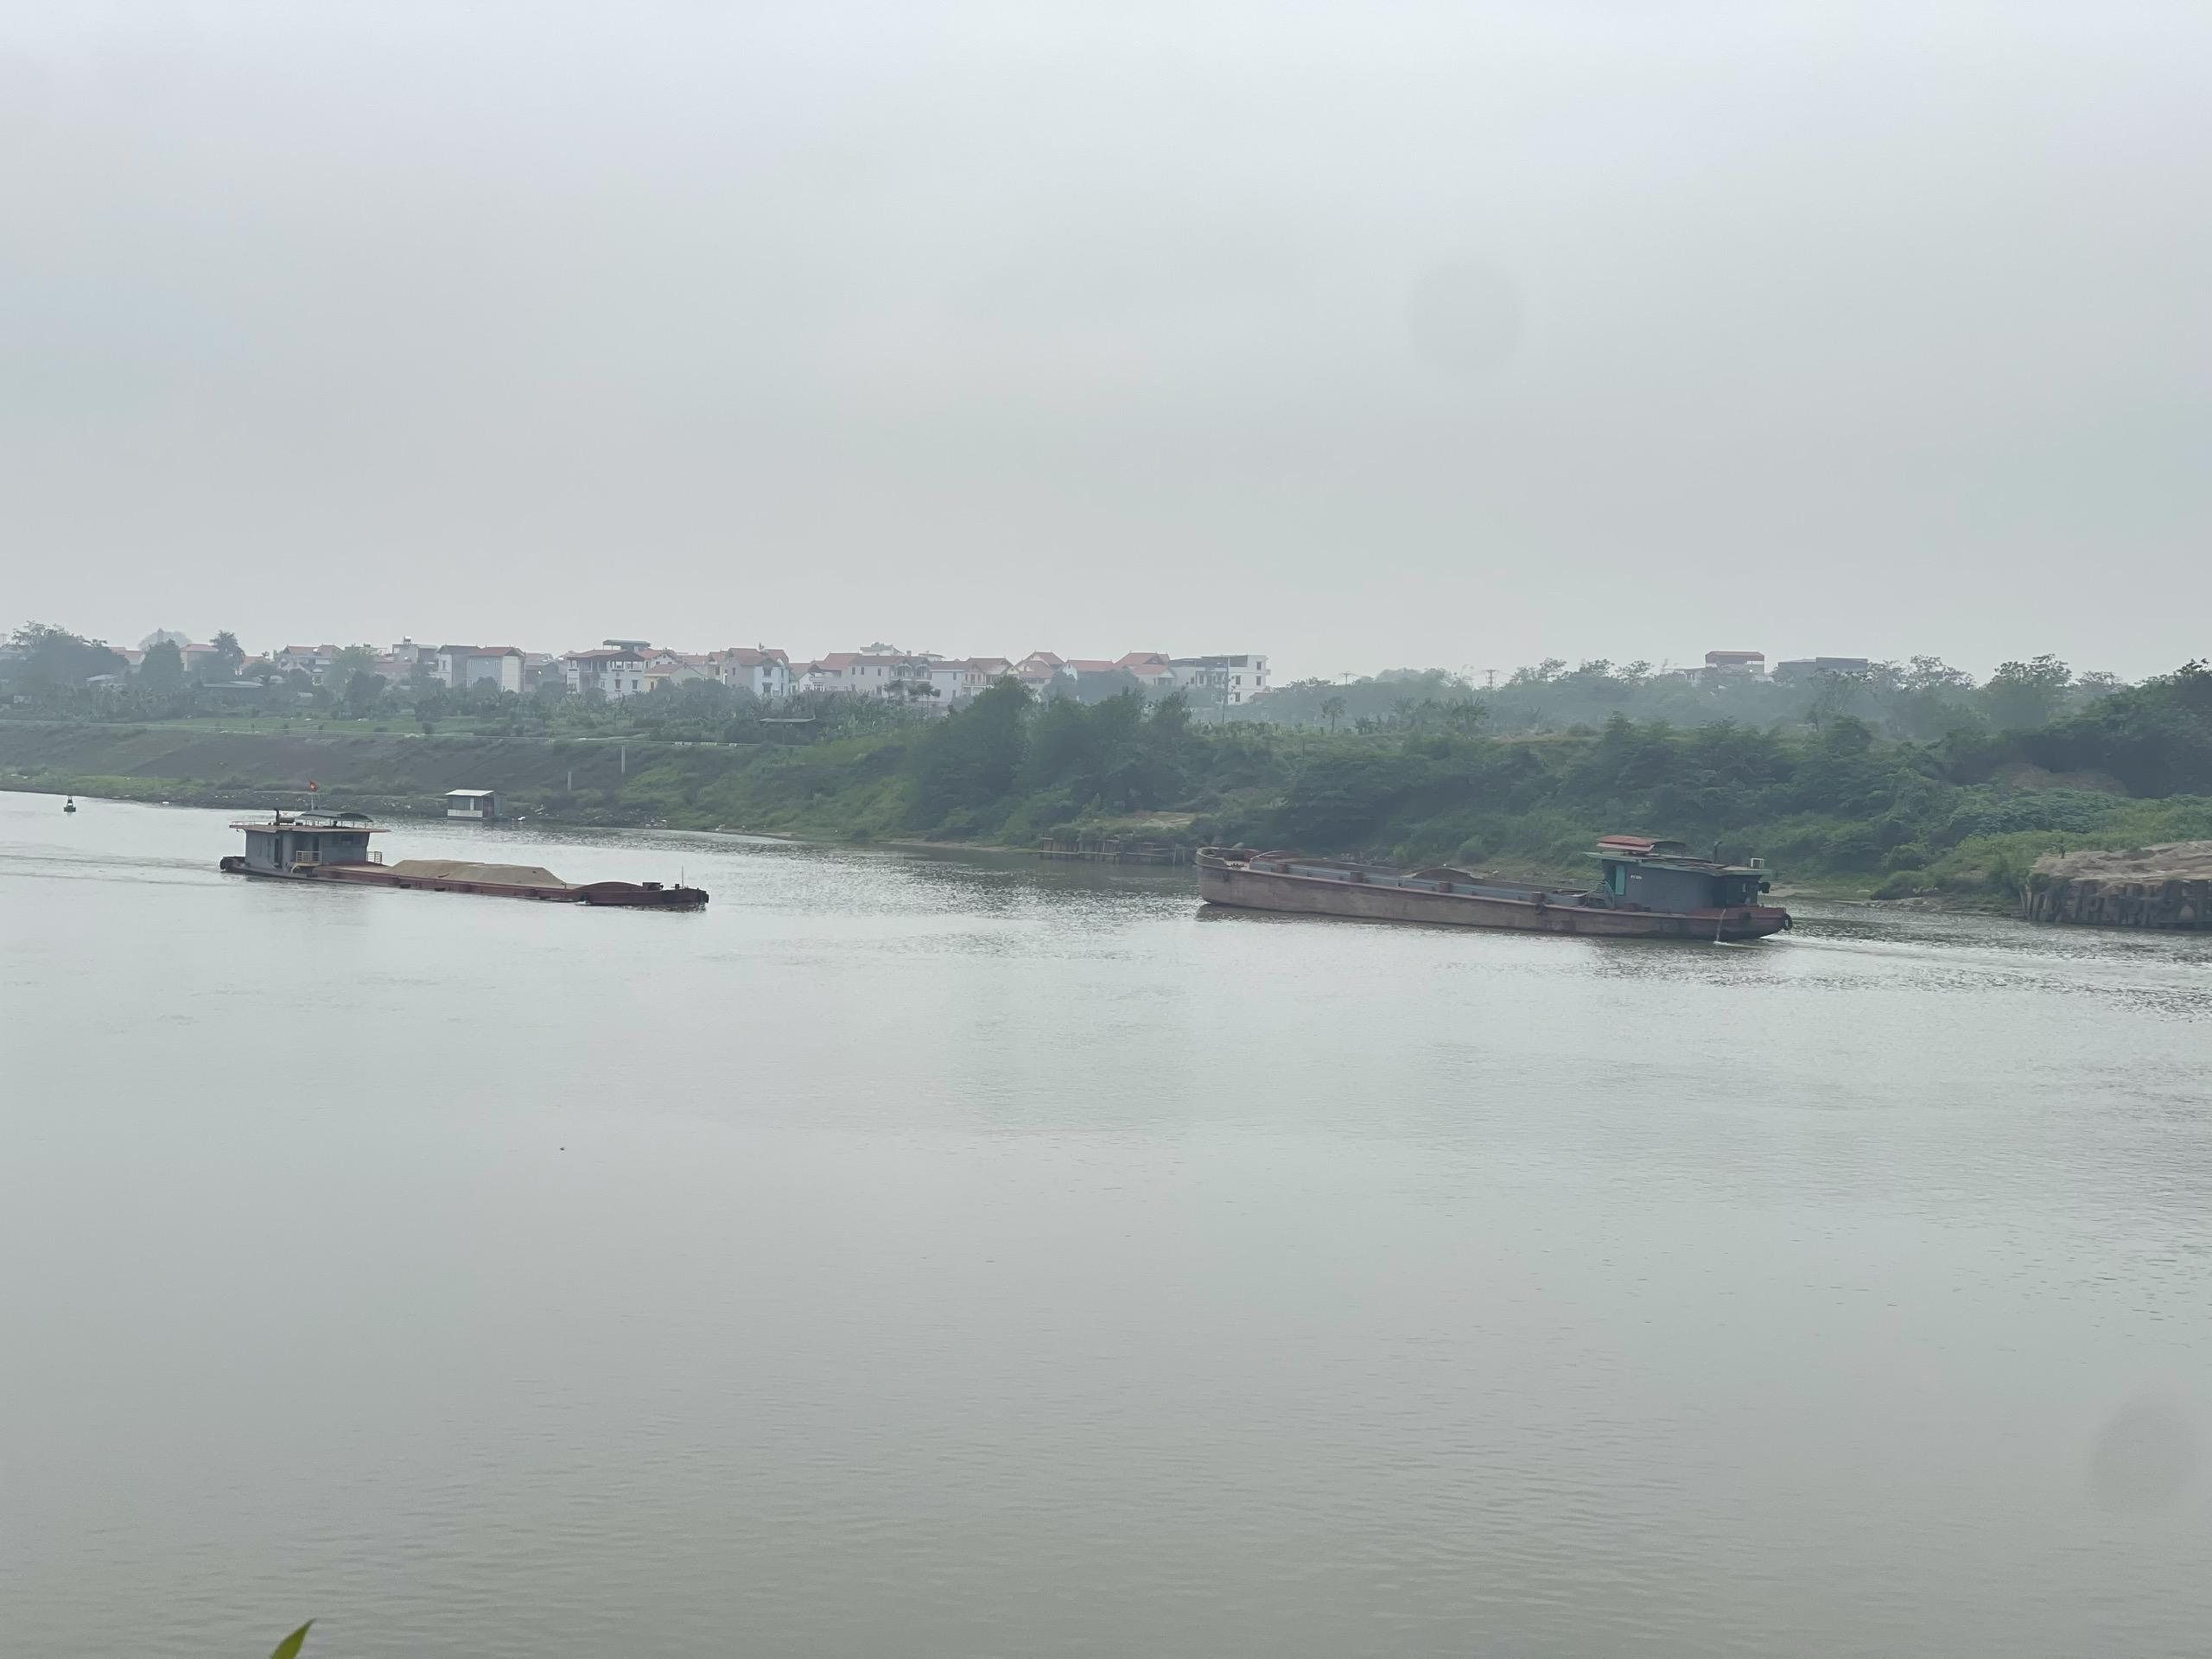Ship: (1183, 823, 1801, 950), (216, 809, 721, 918)
